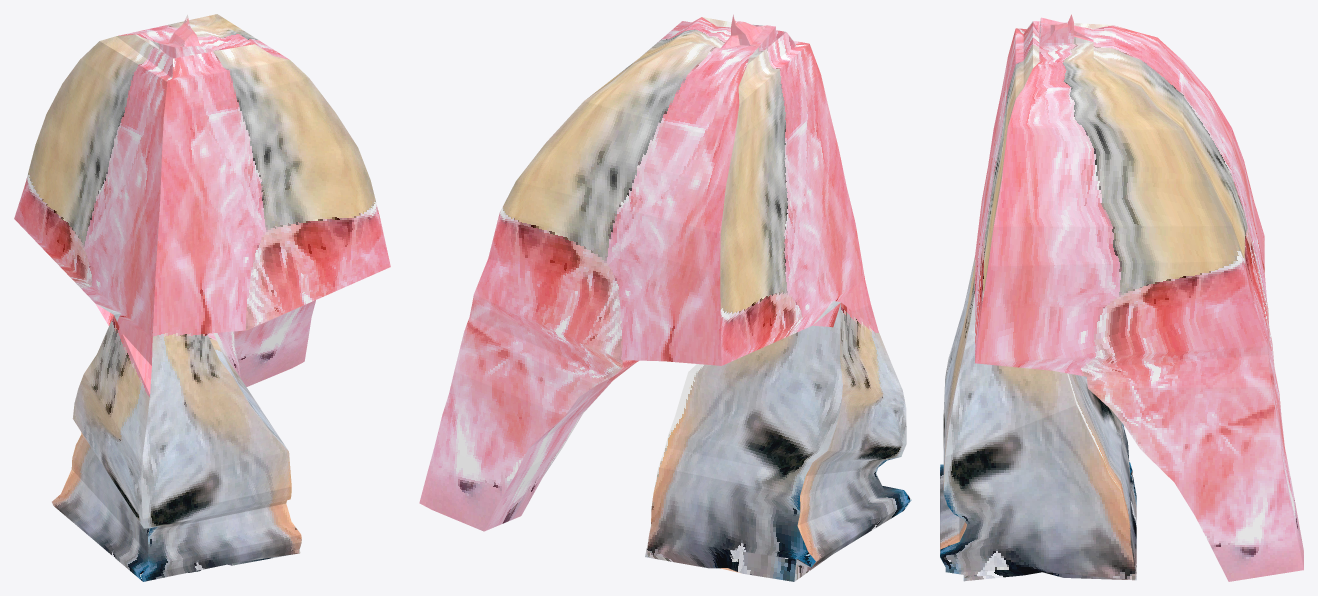
The model's file is metamorphosis_v13_t.glb.
3 views of the same model, side by side, from view 1: azimuth 30°, elevation 25°; view 2: azimuth 150°, elevation 25°; view 3: azimuth 270°, elevation 25° (orthographic). The views are drawn at different scales.
Visible parts, largest first — view 1: Cube; view 2: Cube; view 3: Cube.
Boxes of the visible parts, x1=… form: Cube: x1=14, y1=14, x2=390, y2=581; Cube: x1=419, y1=14, x2=911, y2=581; Cube: x1=940, y1=14, x2=1303, y2=581.
Bounding box in the file's own units: 2.34 × 3.82 × 2.34.
Materials: 1 (1 with a texture image).
